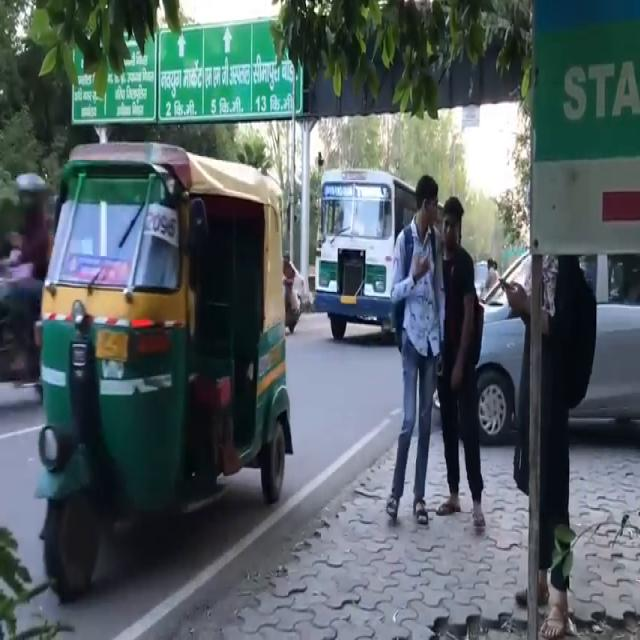TRUCK: (318, 165, 404, 339)
